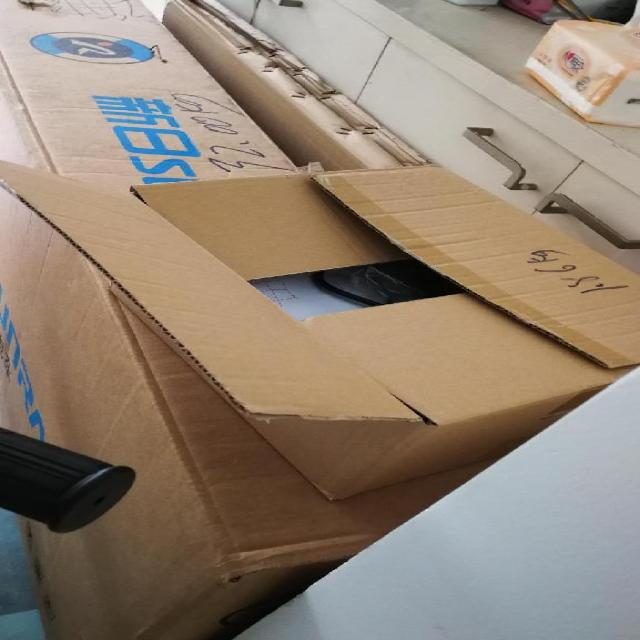cardboard: (0, 156, 640, 493), (0, 0, 409, 176)
